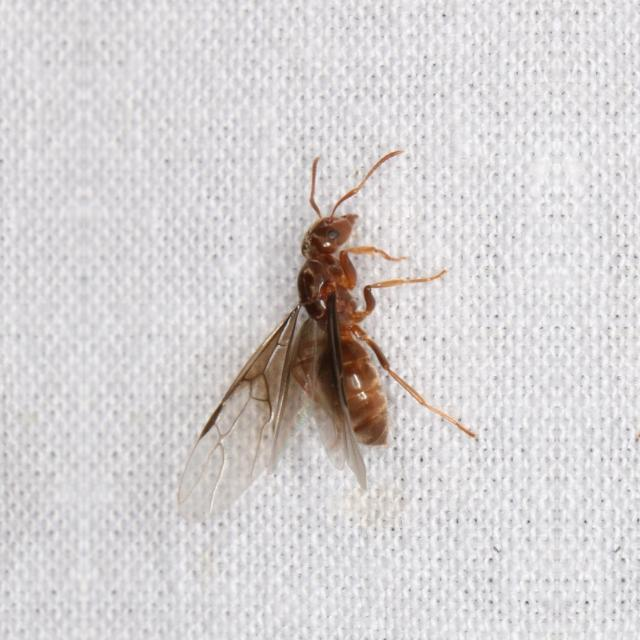Lasius: (219, 146, 455, 490)
